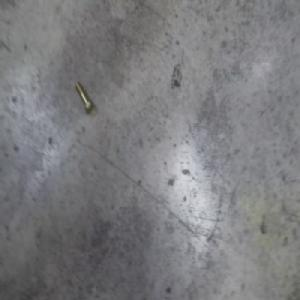Bolt: (73, 79, 93, 114)
